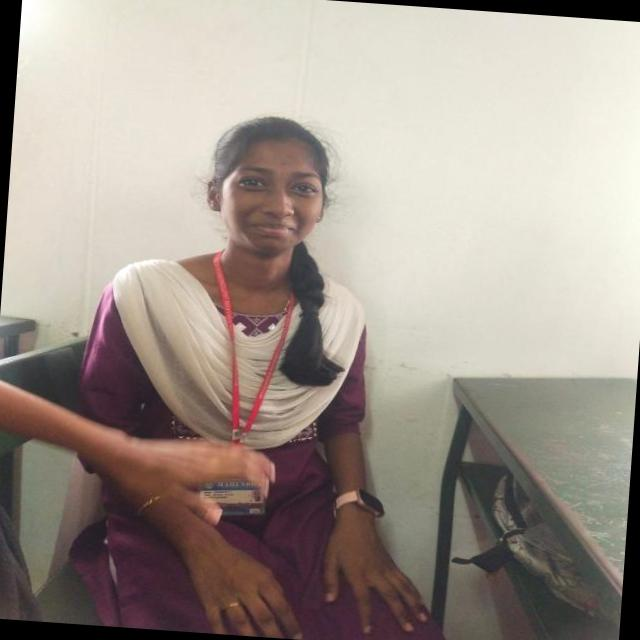id_card: (200, 238, 298, 521)
